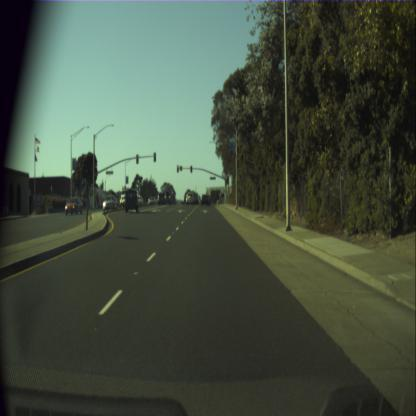Red: (176, 164, 178, 172)
